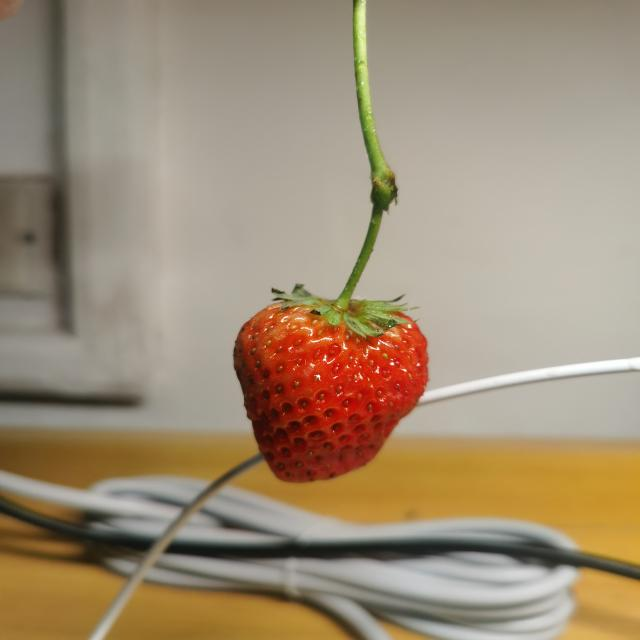stem: (330, 211, 382, 313)
strawberry: (232, 300, 429, 483)
